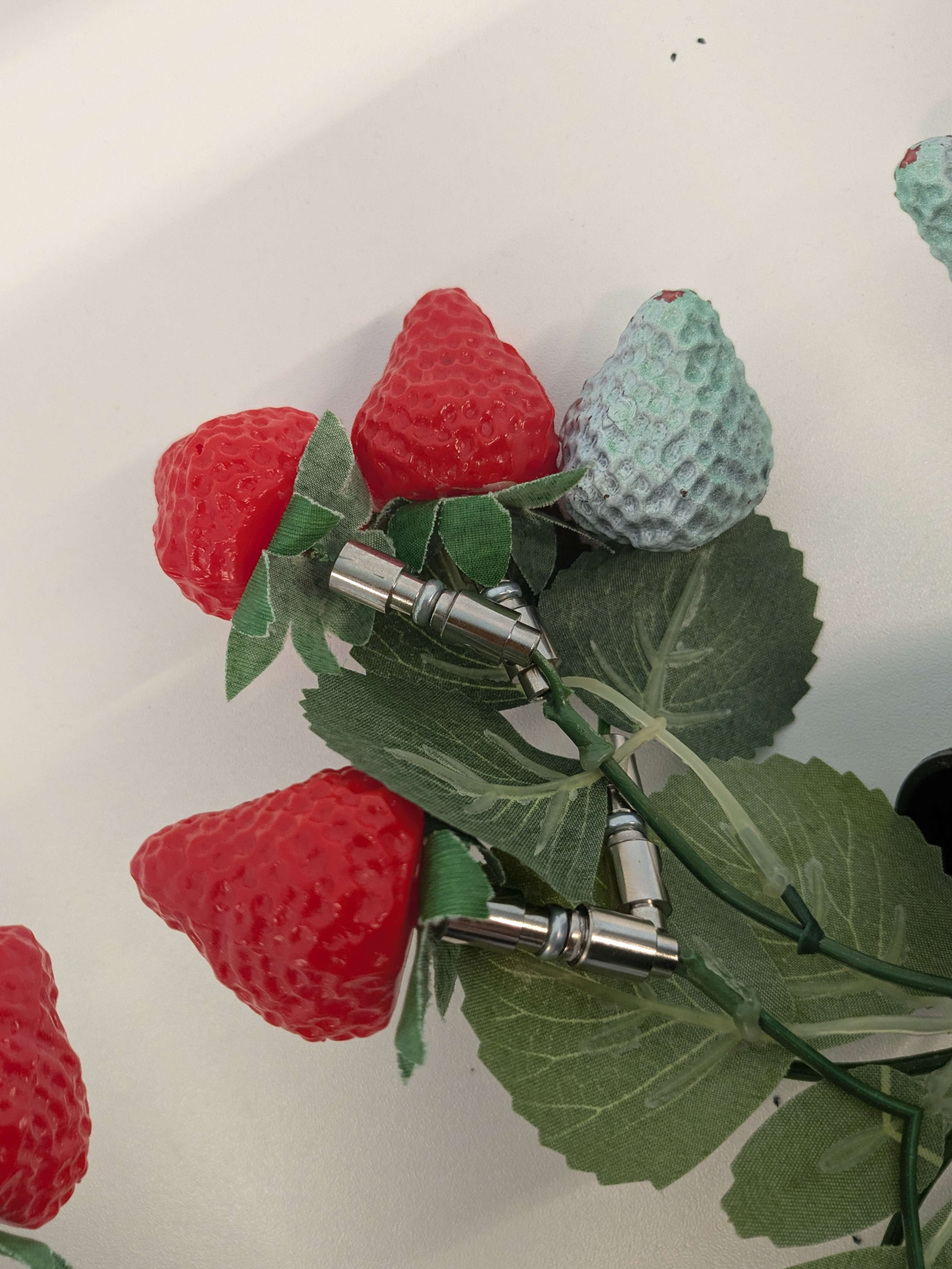Strawberry: (105, 700, 516, 1110), (70, 346, 415, 679), (291, 254, 593, 567)
